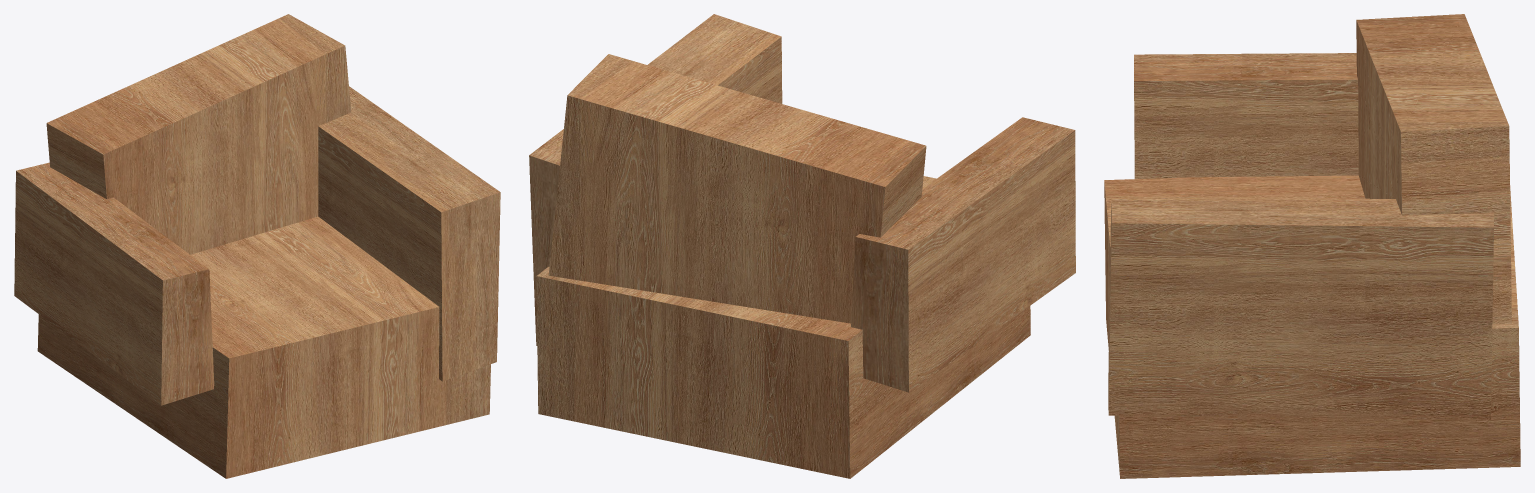
The model's file is 37821_ours.glb.
3 renders of one model, left to right at view 1: azimuth 30°, elevation 25°; view 2: azimuth 150°, elevation 25°; view 3: azimuth 270°, elevation 25°, orthographic. The views are drawn at different scales.
Visible parts, largest first — view 1: ParentEmpty; view 2: ParentEmpty; view 3: ParentEmpty.
Boxes of the visible parts, bbox=[...] form: ParentEmpty: bbox=[14, 14, 500, 478]; ParentEmpty: bbox=[529, 14, 1075, 478]; ParentEmpty: bbox=[1104, 14, 1520, 478].
Bounding box in the file's own units: 1 × 0.8313 × 0.9406.
1 material, 1 textured.
